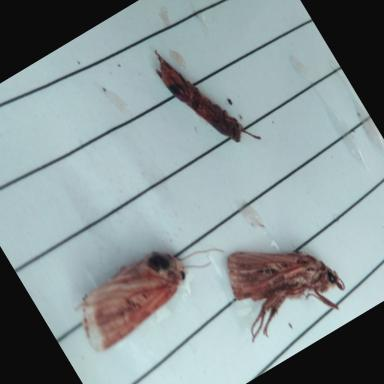abw: (64, 217, 237, 355), (208, 211, 354, 355)
